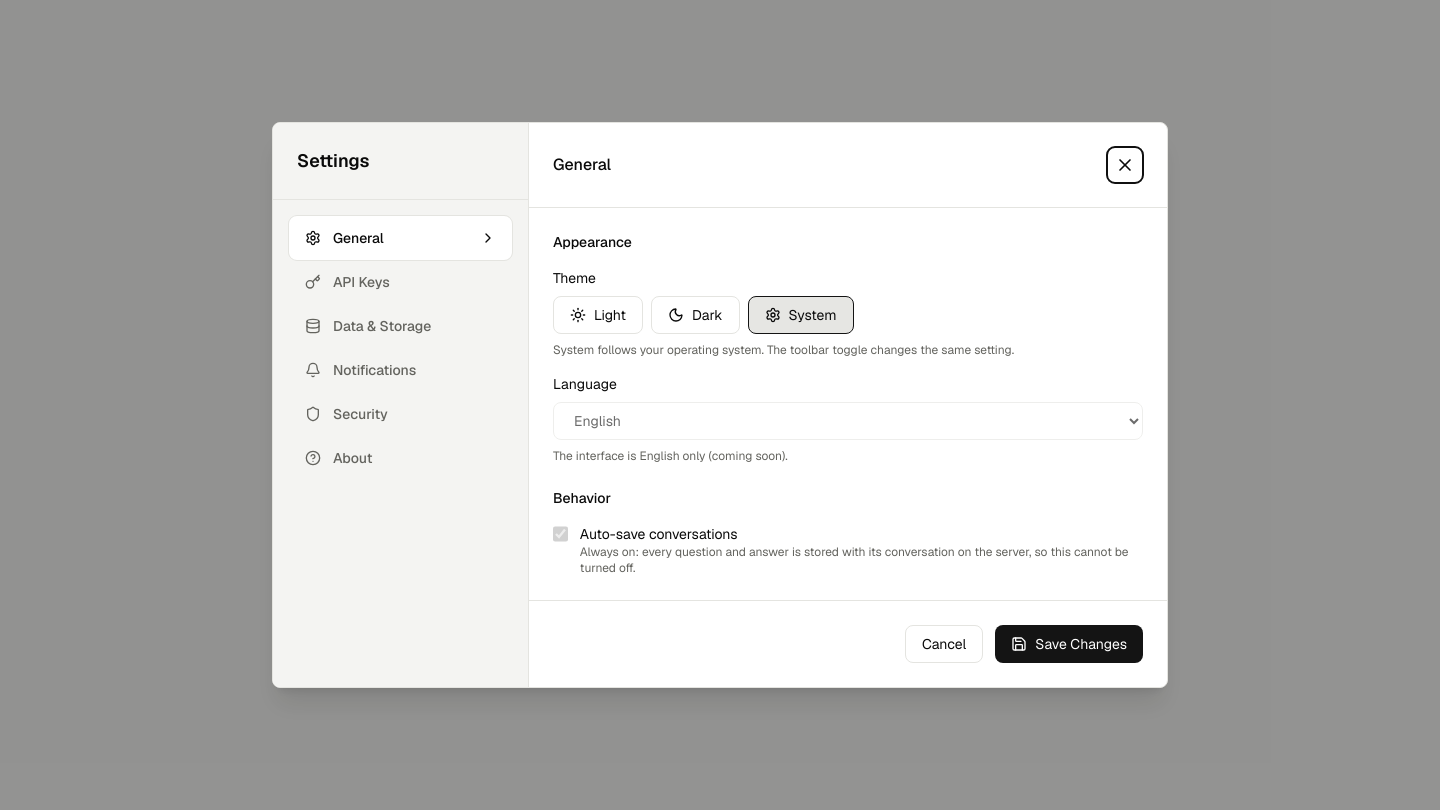
settings with unavailable provider controls › reports no storage figures it cannot measure
Click the button "Data & Storage" at (400, 326), box [289,304,512,348]
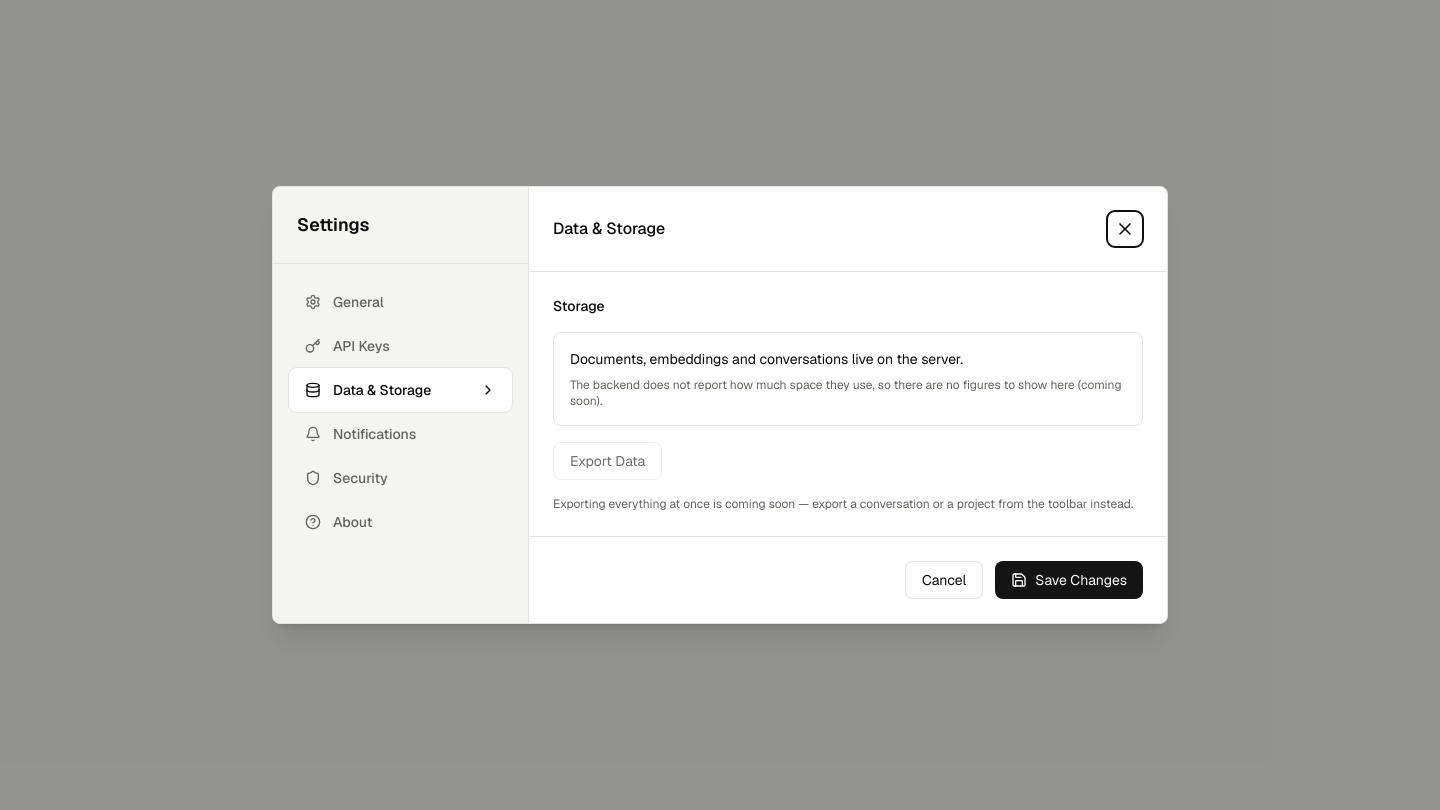
Check: the button "Export Data" is disabled, box [553,442,662,480]
